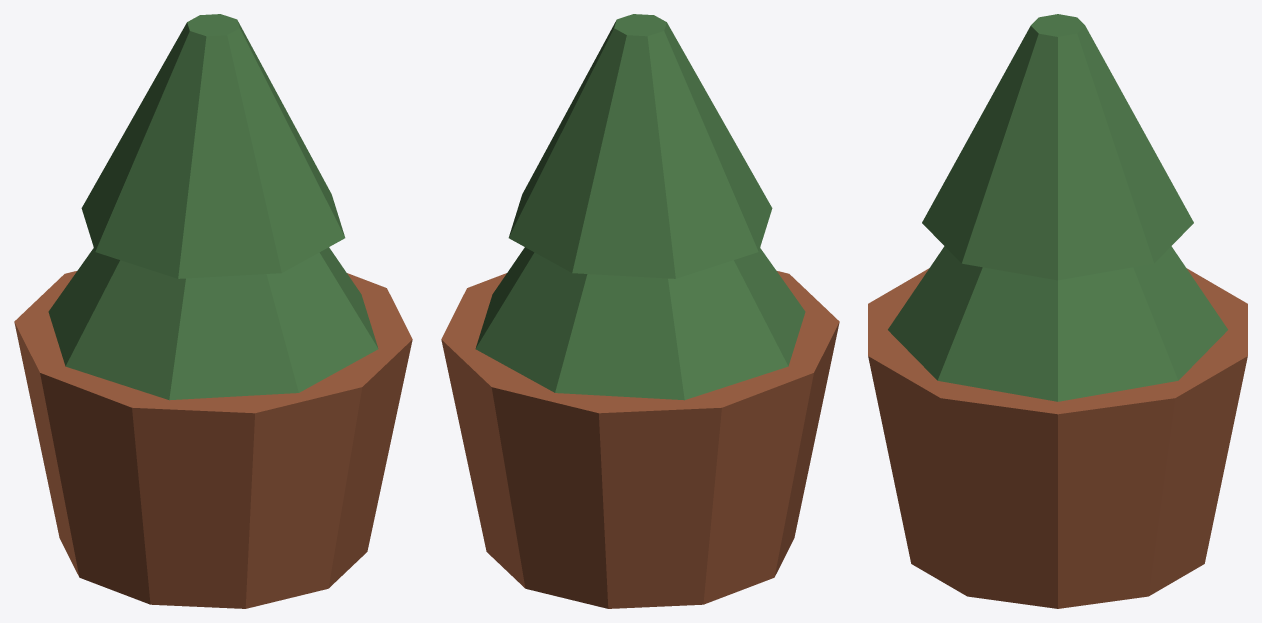
The model's file is Prop_Planta.obj.
3 views of the same model, side by side, from view 1: azimuth 30°, elevation 25°; view 2: azimuth 150°, elevation 25°; view 3: azimuth 270°, elevation 25° (orthographic).
Visible parts, largest first — view 1: hoja, maceta; view 2: hoja, maceta; view 3: hoja, maceta.
Boxes of the visible parts, x1,y1,x2,y2 form: hoja: (48,14,378,400); maceta: (14,271,412,608); hoja: (475,14,805,400); maceta: (441,271,839,608); hoja: (888,14,1227,401); maceta: (868,268,1247,608).
Size of the model in its own units: 0.22 by 0.315 by 0.2092.
